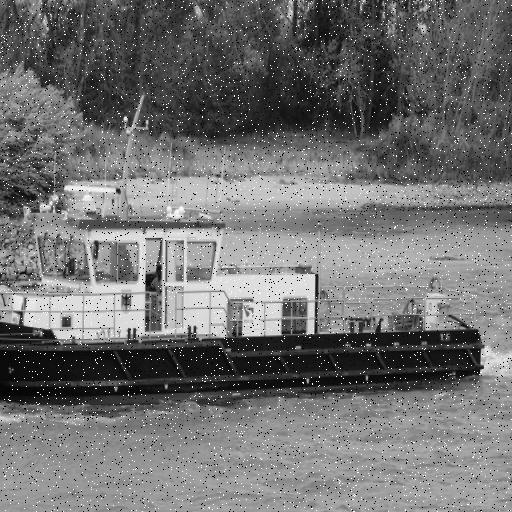tugboat: (1, 178, 488, 415)
